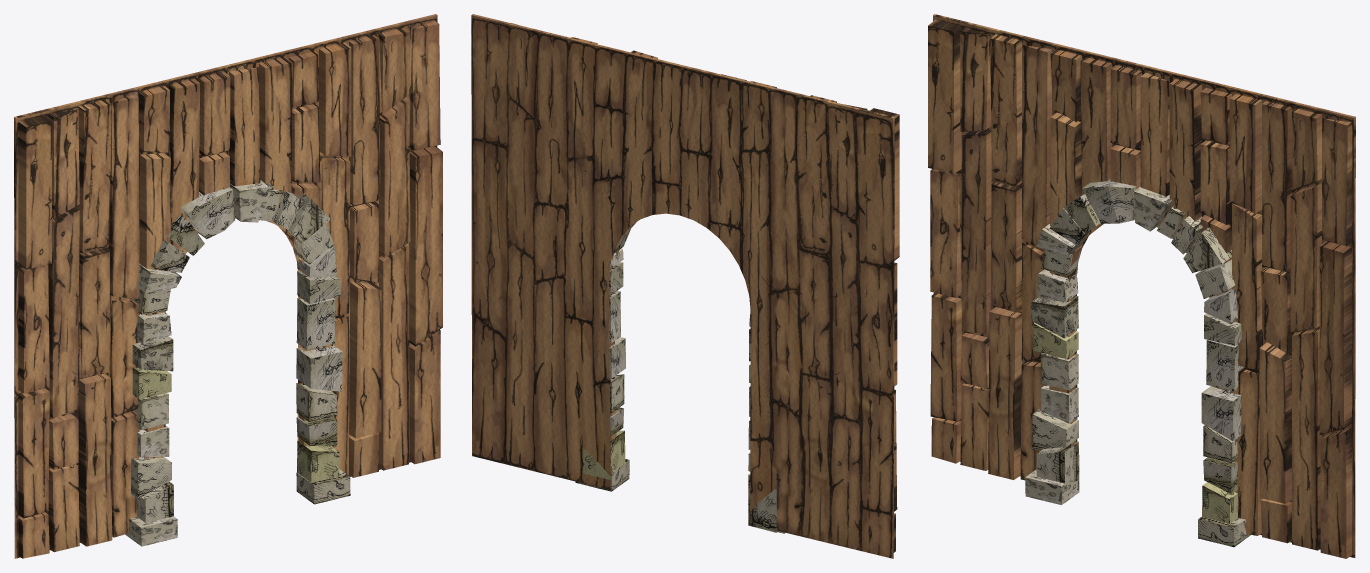
File: door_wall_wood.glb
3 renders of one model, left to right at view 1: azimuth 30°, elevation 25°; view 2: azimuth 150°, elevation 25°; view 3: azimuth 330°, elevation 25°, orthographic.
Parts seen in each view (by area): view 1: Wood Wall Door; view 2: Wood Wall Door; view 3: Wood Wall Door.
Boxes of the visible parts, x1=… form: Wood Wall Door: x1=14, y1=14, x2=442, y2=558; Wood Wall Door: x1=471, y1=14, x2=899, y2=558; Wood Wall Door: x1=928, y1=14, x2=1355, y2=558.
Bounding box in the file's own units: 2 × 2.01 × 0.1501.
Materials: 2 (2 with a texture image).
